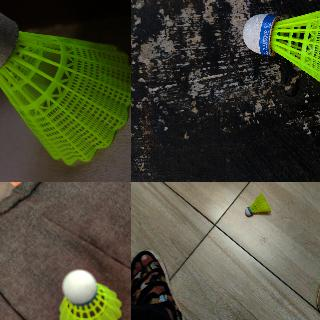shuttlecock: (0, 5, 130, 166), (242, 0, 319, 104), (58, 269, 122, 319), (243, 193, 271, 217)
